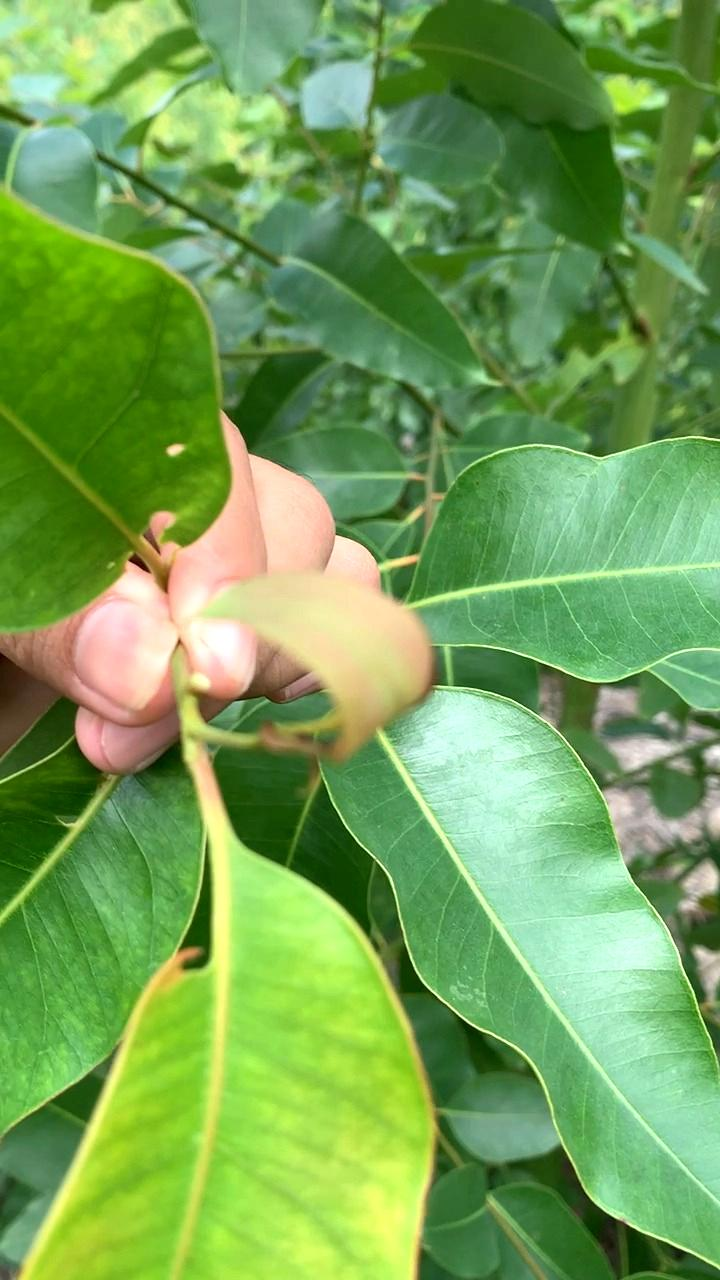Helopeltis-Withered Sprout: (208, 573, 445, 771)
